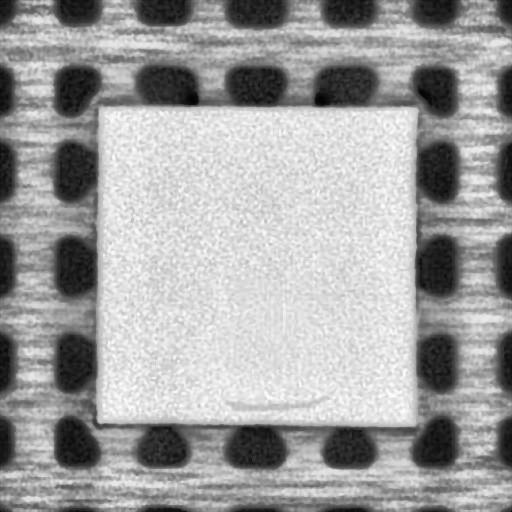DIE_CRACK: (221, 394, 332, 410)
